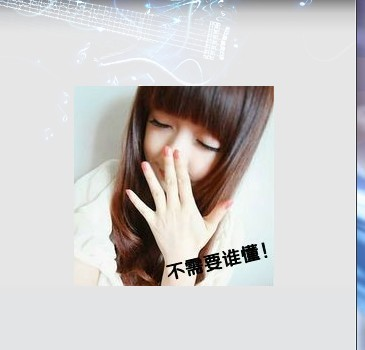face: (141, 88, 228, 191)
